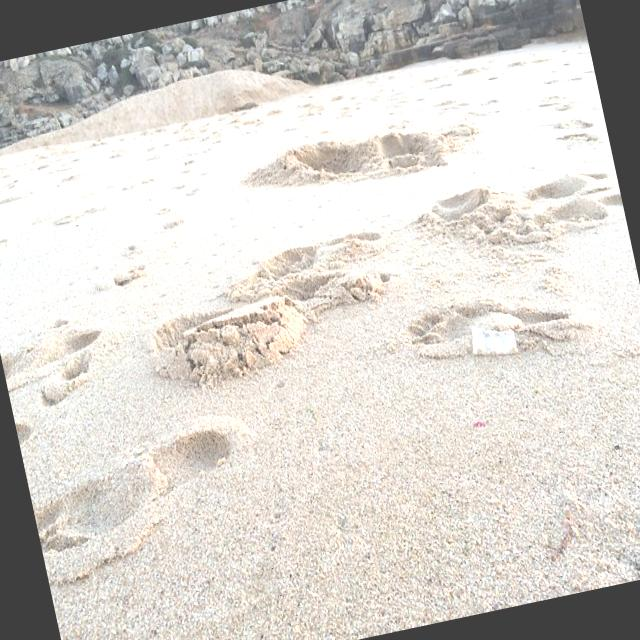Recycle: (467, 318, 521, 363)
